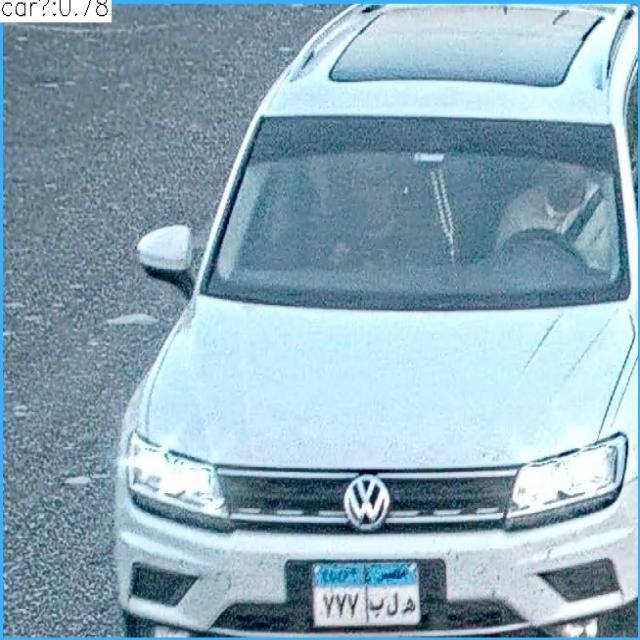windshield: (218, 112, 628, 299)
